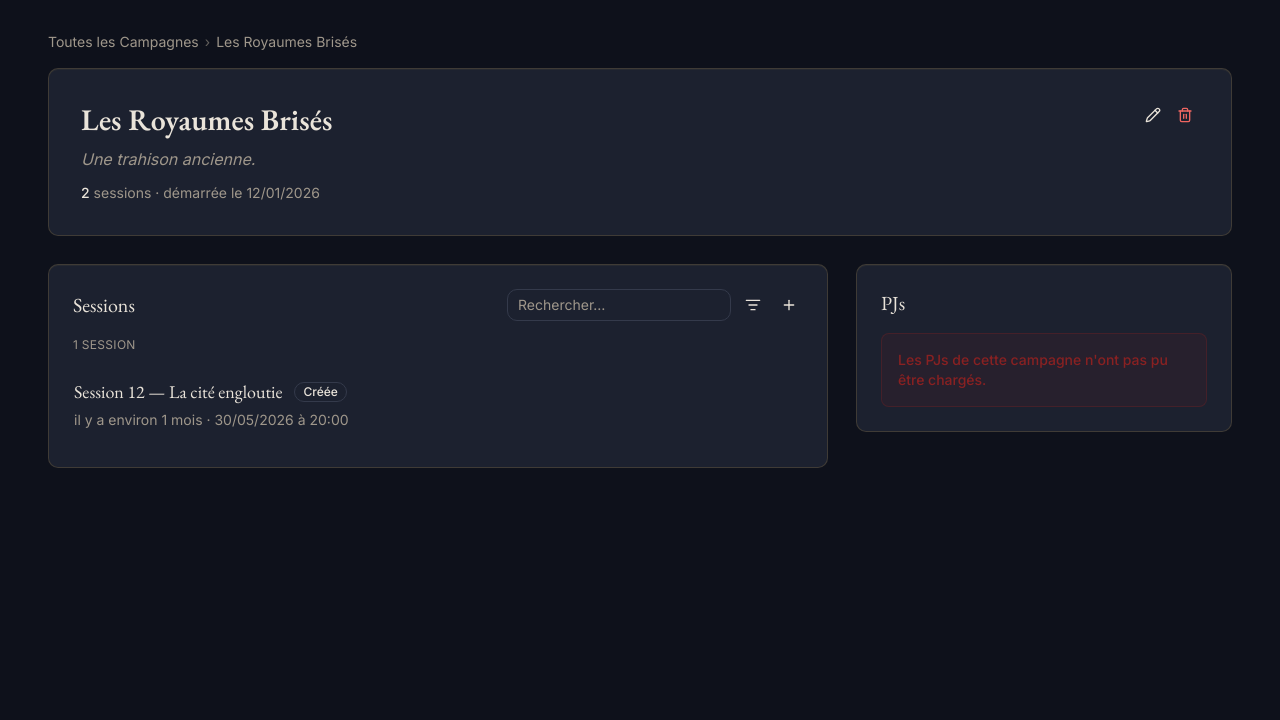
/jdr/campaigns/[campId] page › clicking Modifier opens the edit dialog with the campaign name pre-filled
This screenshot has width=1280, height=720.
Expected: the heading "Les Royaumes Brisés" is shown, [81,100,332,139]
Click the button named "Modifier la campagne".
click(1153, 115)  # box [1139,101,1167,129]
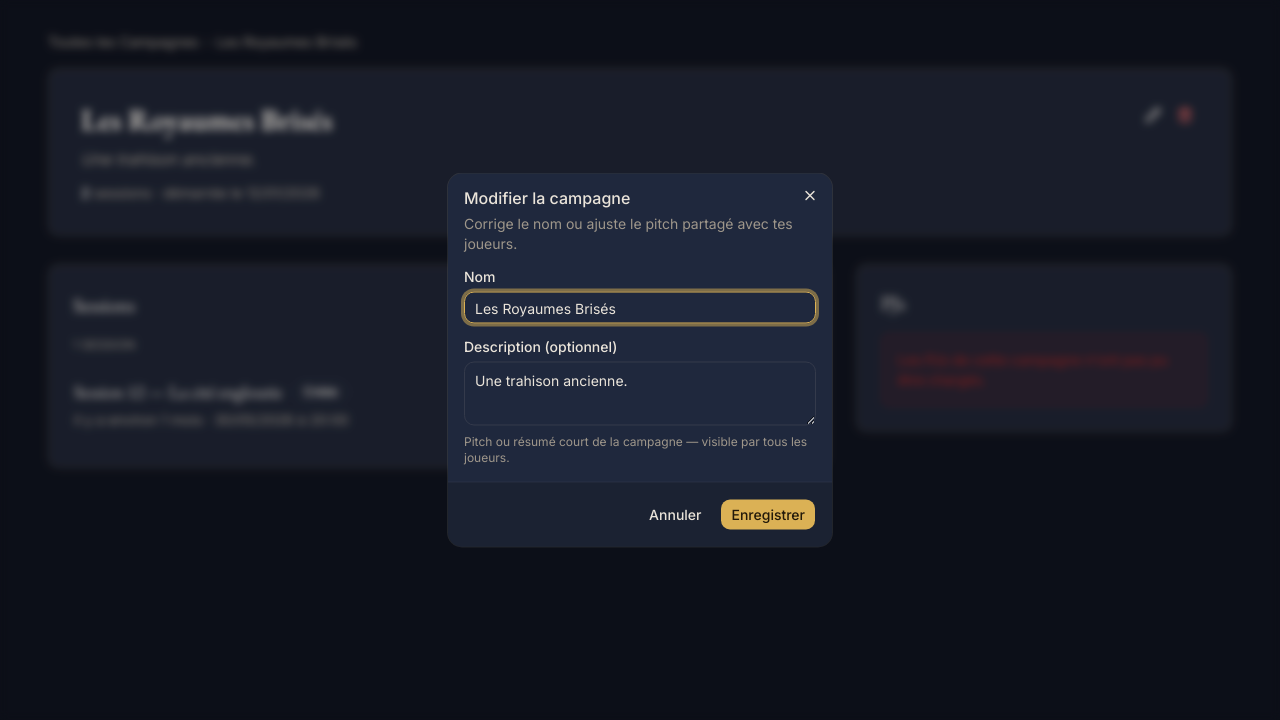
Expected: the heading "Modifier la campagne" is shown, [464,188,630,208]
Expected: the field labelled "Nom" holds "Les Royaumes Brisés", [464,292,816,324]
